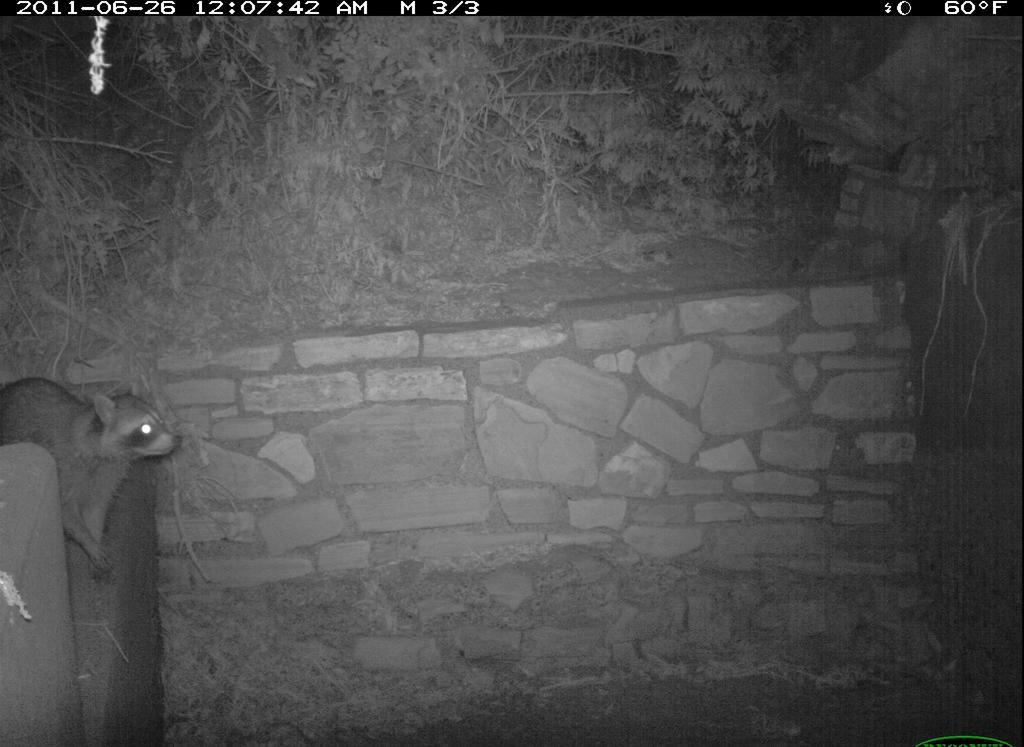raccoon: (2, 356, 186, 591)
